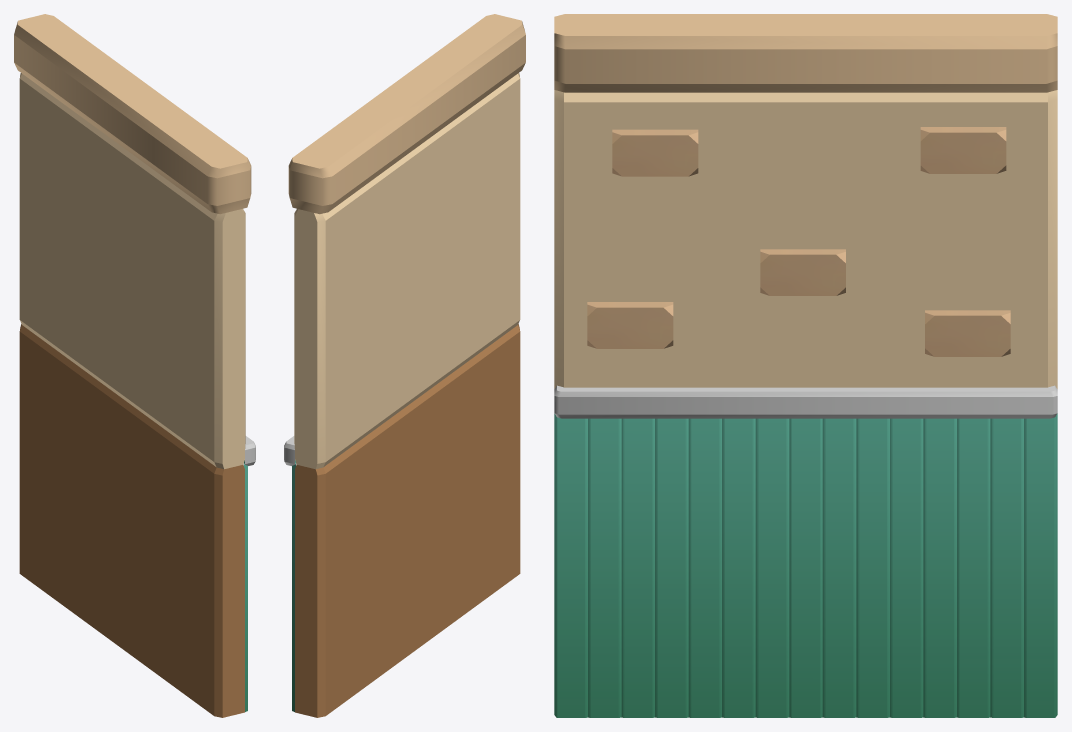
The model's file is Wall_A_16.glb.
3 views of the same model, side by side, from view 1: azimuth 30°, elevation 25°; view 2: azimuth 150°, elevation 25°; view 3: azimuth 270°, elevation 25° (orthographic). The views are drawn at different scales.
Parts seen in each view (by area): view 1: Wall_A_16; view 2: Wall_A_16; view 3: Wall_A_16.
Boxes of the visible parts, bbox=[...] form: Wall_A_16: bbox=[14, 14, 255, 717]; Wall_A_16: bbox=[284, 14, 525, 717]; Wall_A_16: bbox=[554, 14, 1057, 717].
Size of the model in its own units: 0.2676 by 3 by 2.
1 material, 1 textured.
